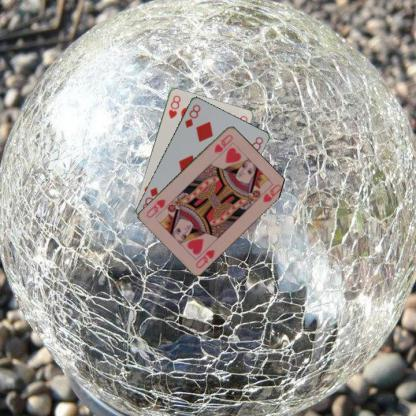8d: (182, 102, 202, 129)
8h: (166, 92, 182, 119)
Qh: (194, 246, 216, 269), (212, 132, 234, 154)
